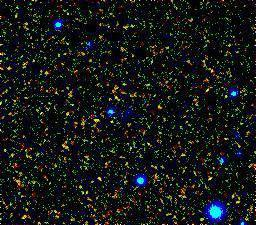star: (211, 84, 241, 114)
